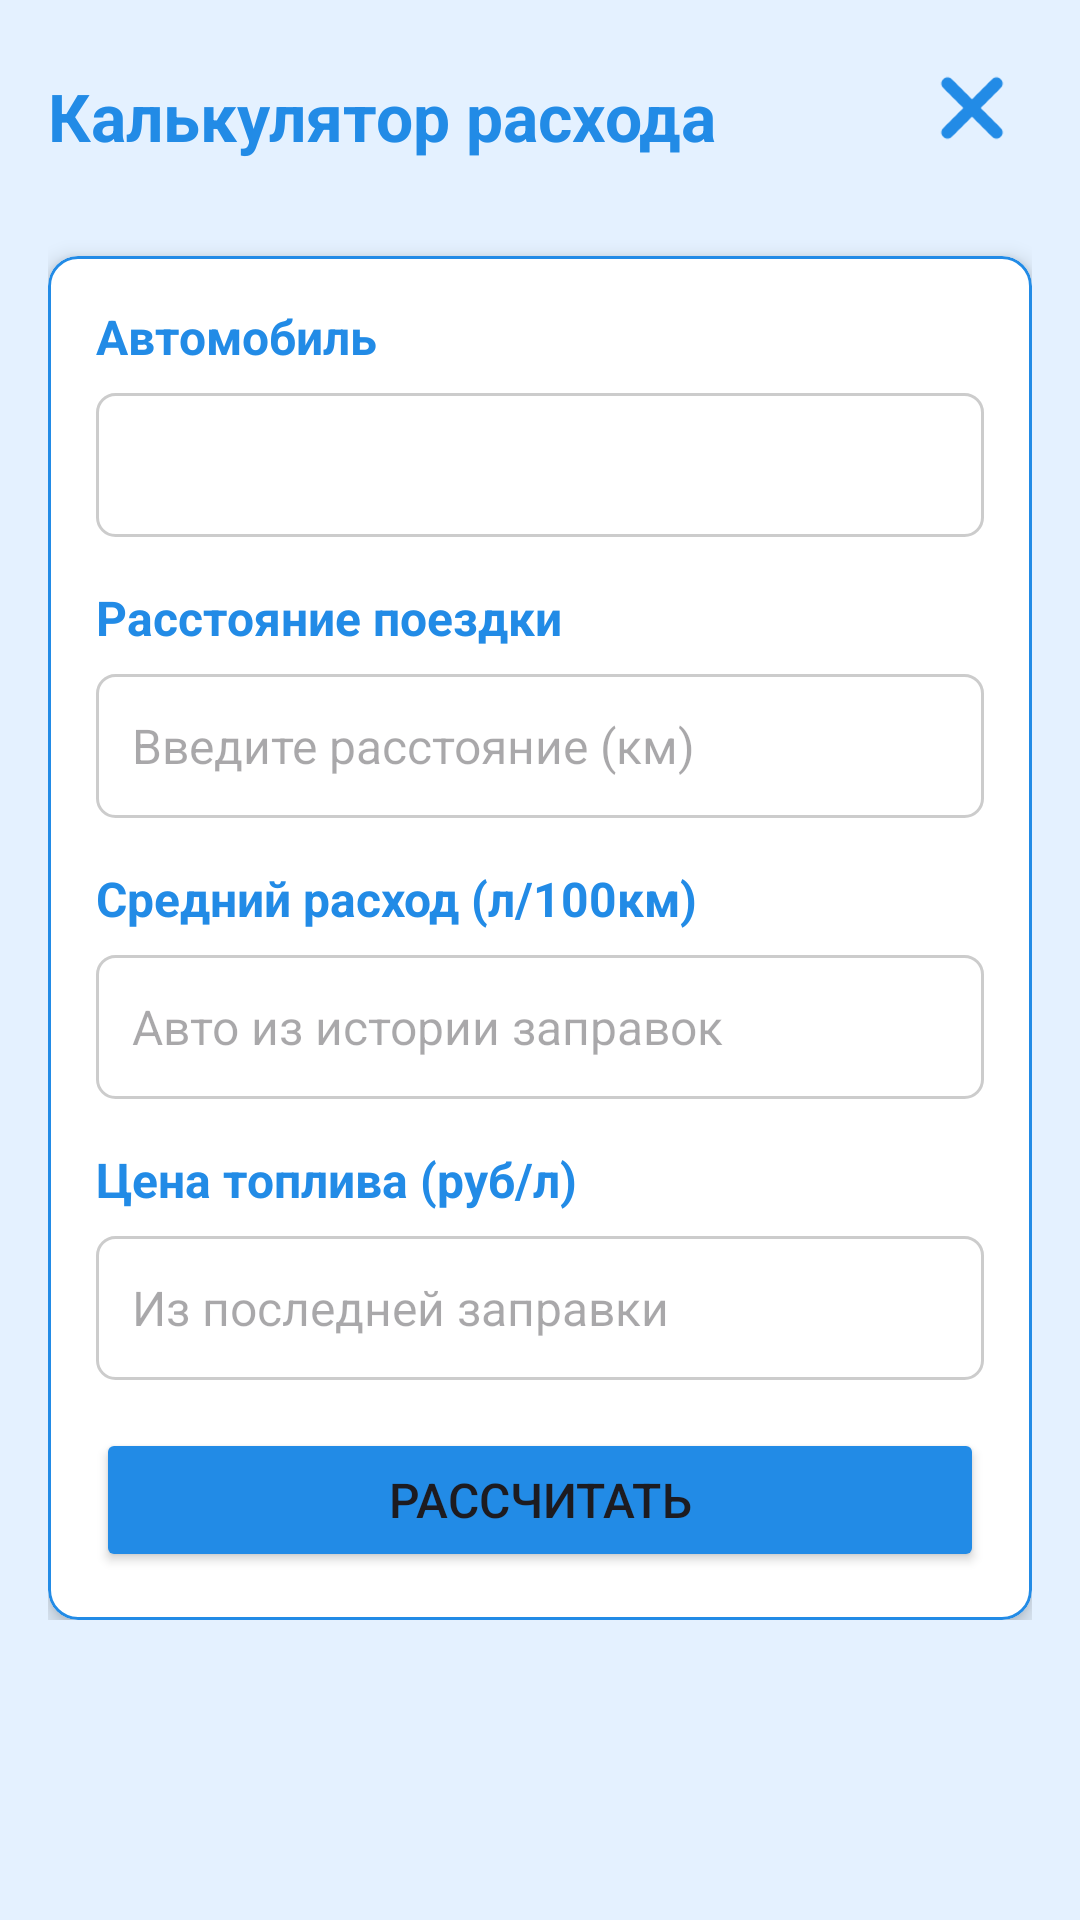

Icon click points for this 1080px×1920px phone screenshot, format (x=x, y=y):
Закрыть: (x=972, y=108)
